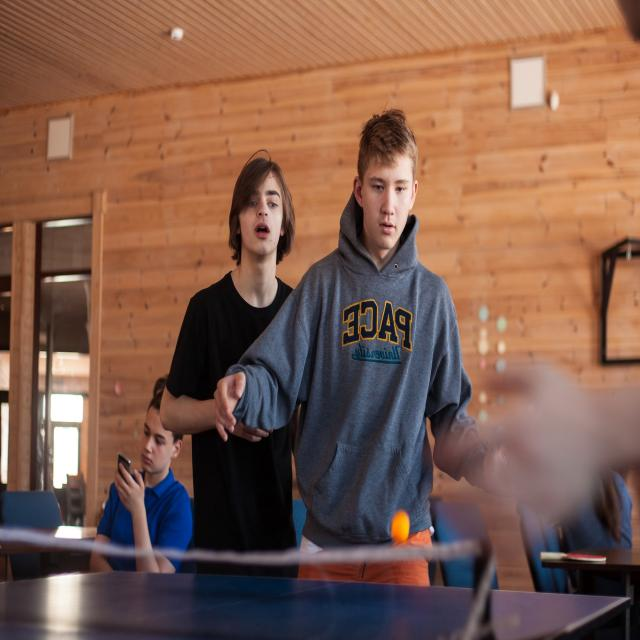adult: (218, 105, 495, 543), (160, 162, 294, 542), (96, 378, 188, 571)
